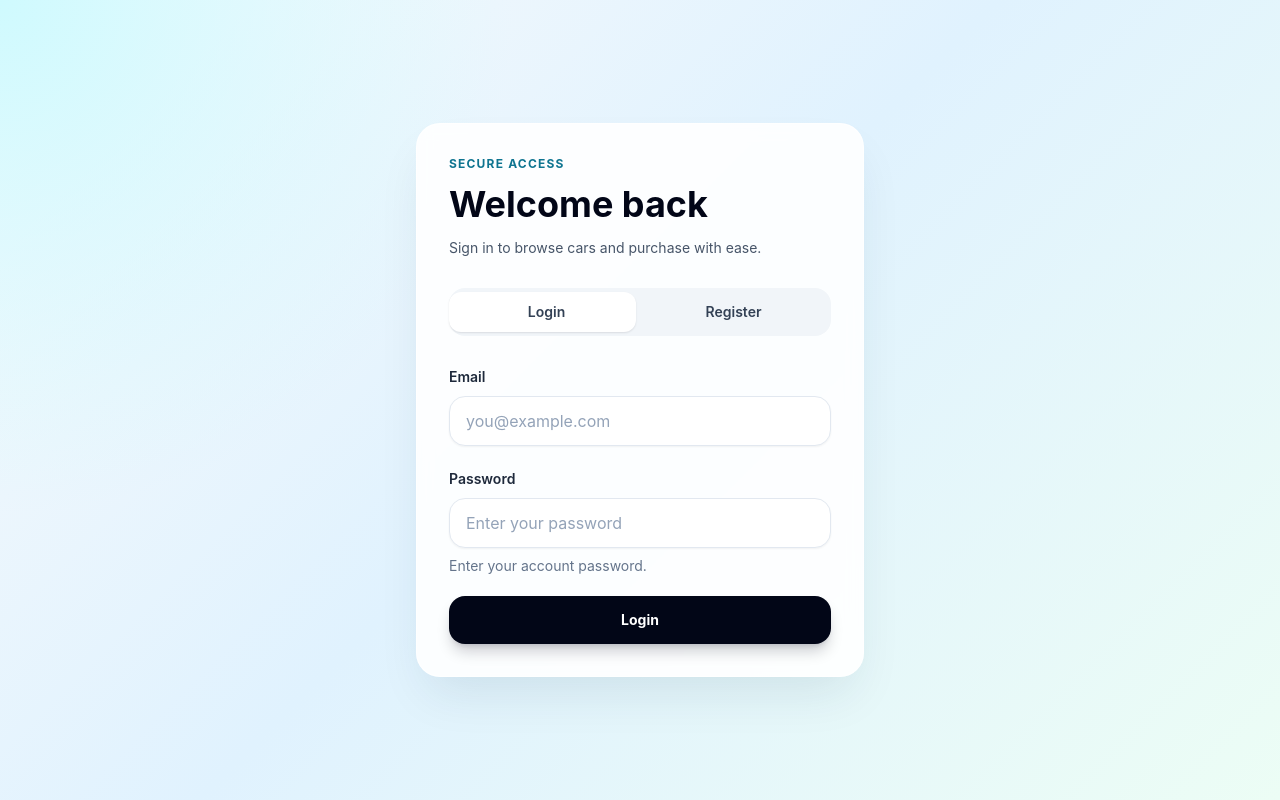
Test: auth page › shows register API errors
Click the tab "Register". click: click(734, 312)
box: [640,292,827,332]
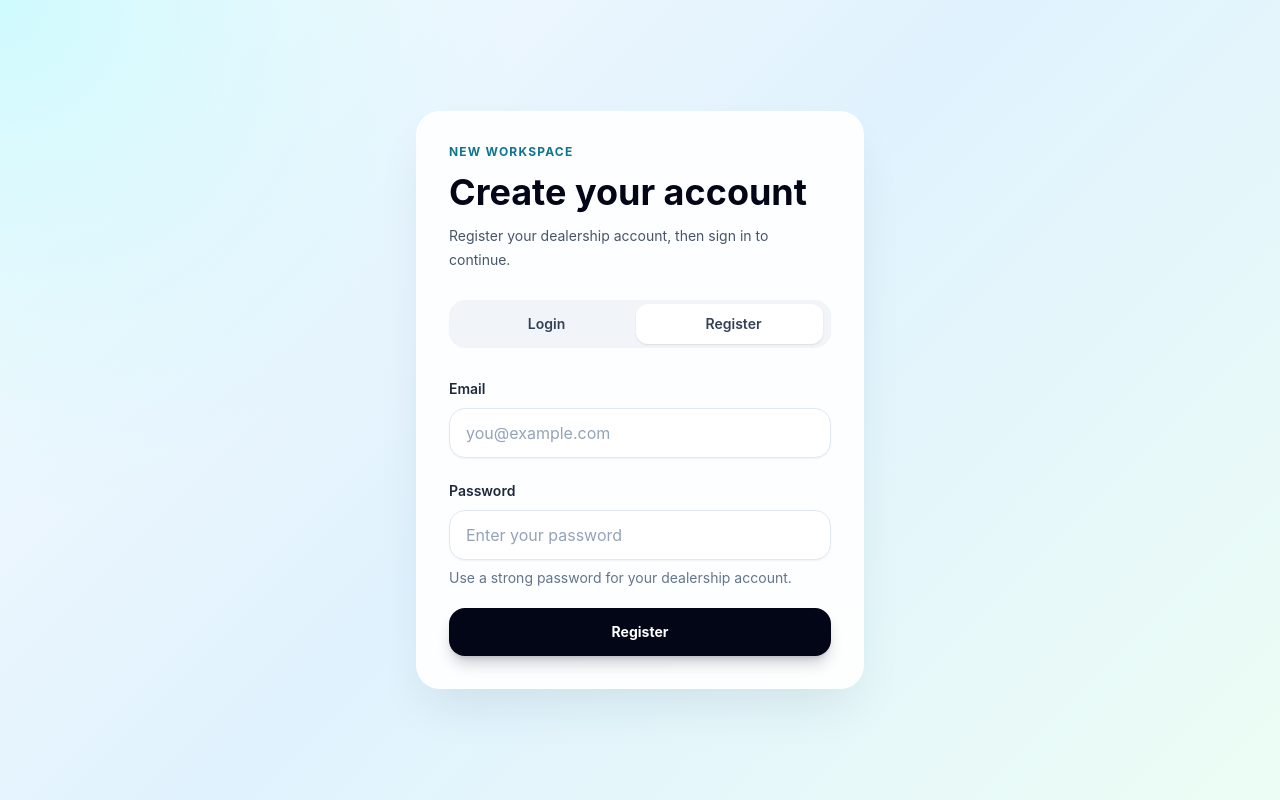
Type "taken@example.com" into the field labelled "Email". click: (640, 433)
box: [449,408,831,458]
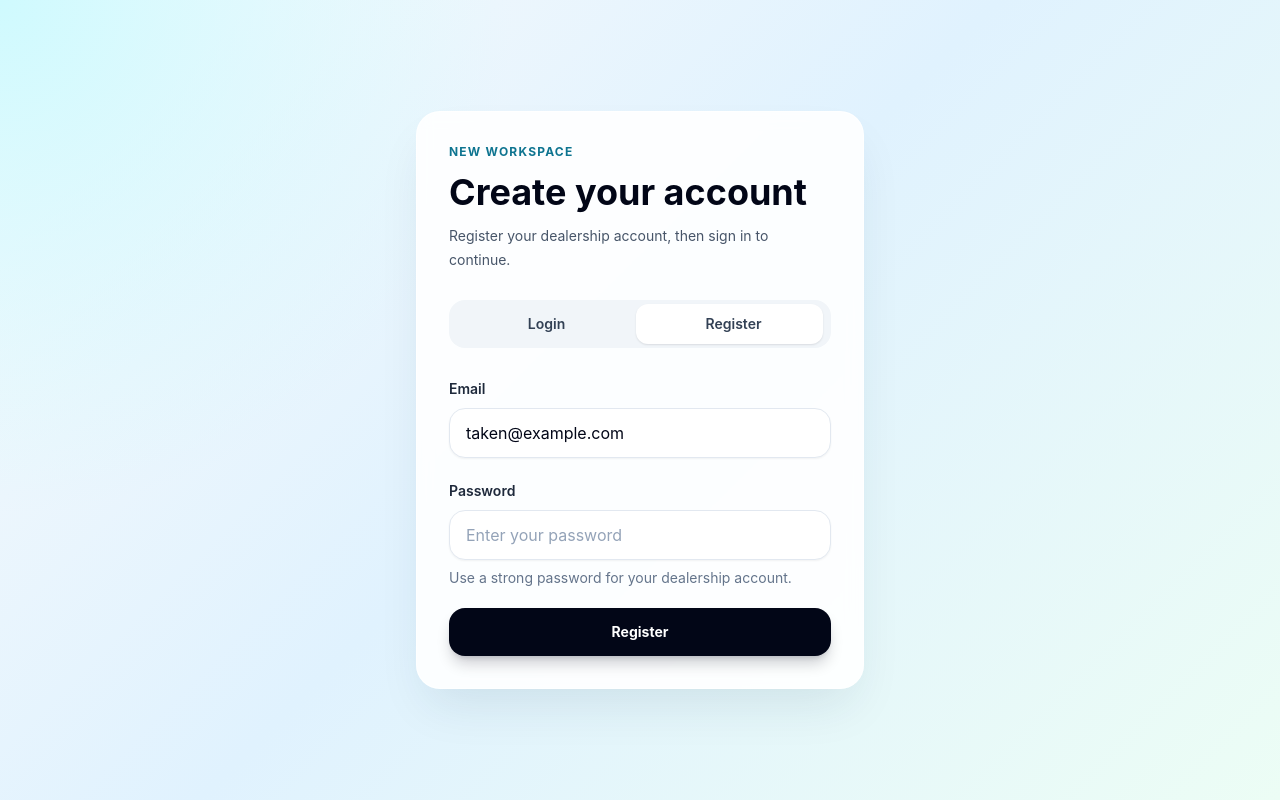
Type "secret-password" into the password field labelled "Password". click: (640, 535)
box: [449,510,831,560]
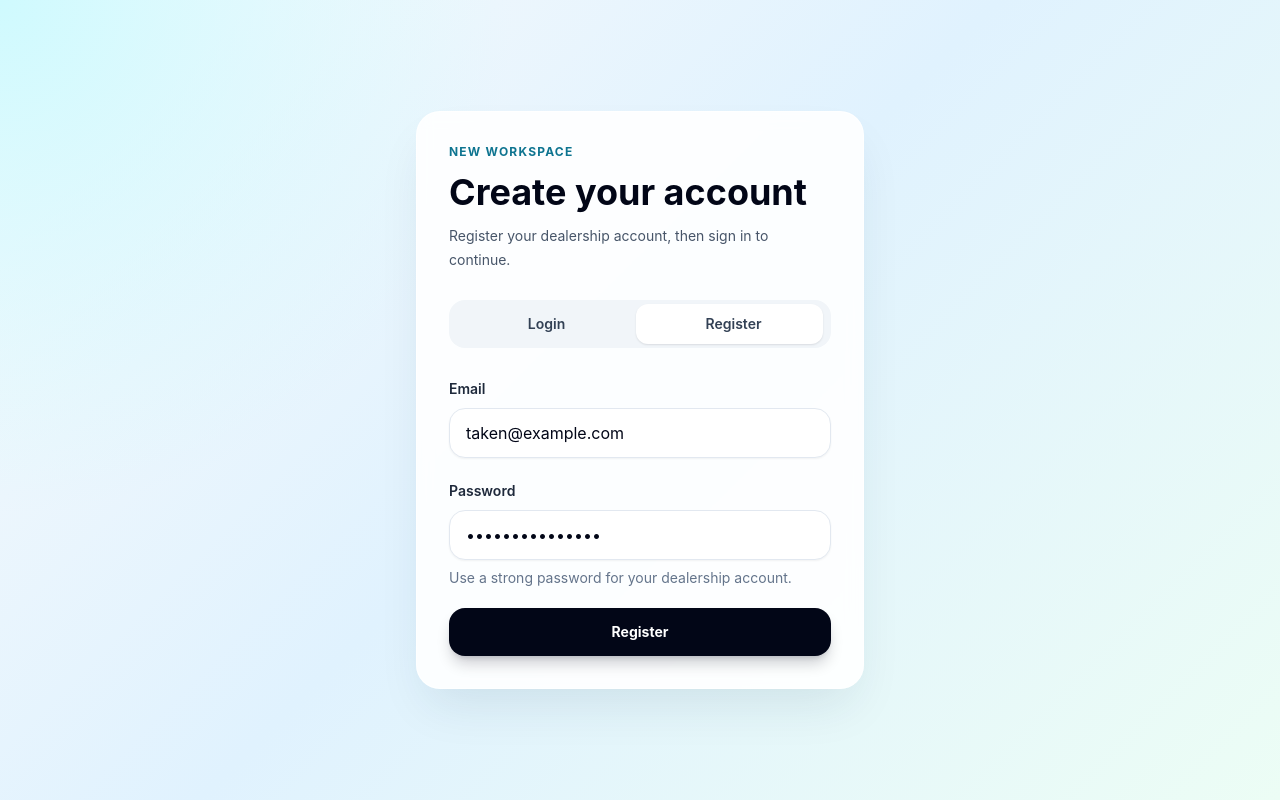
Click the button "Register". click: click(640, 632)
box: [449,608,831,656]
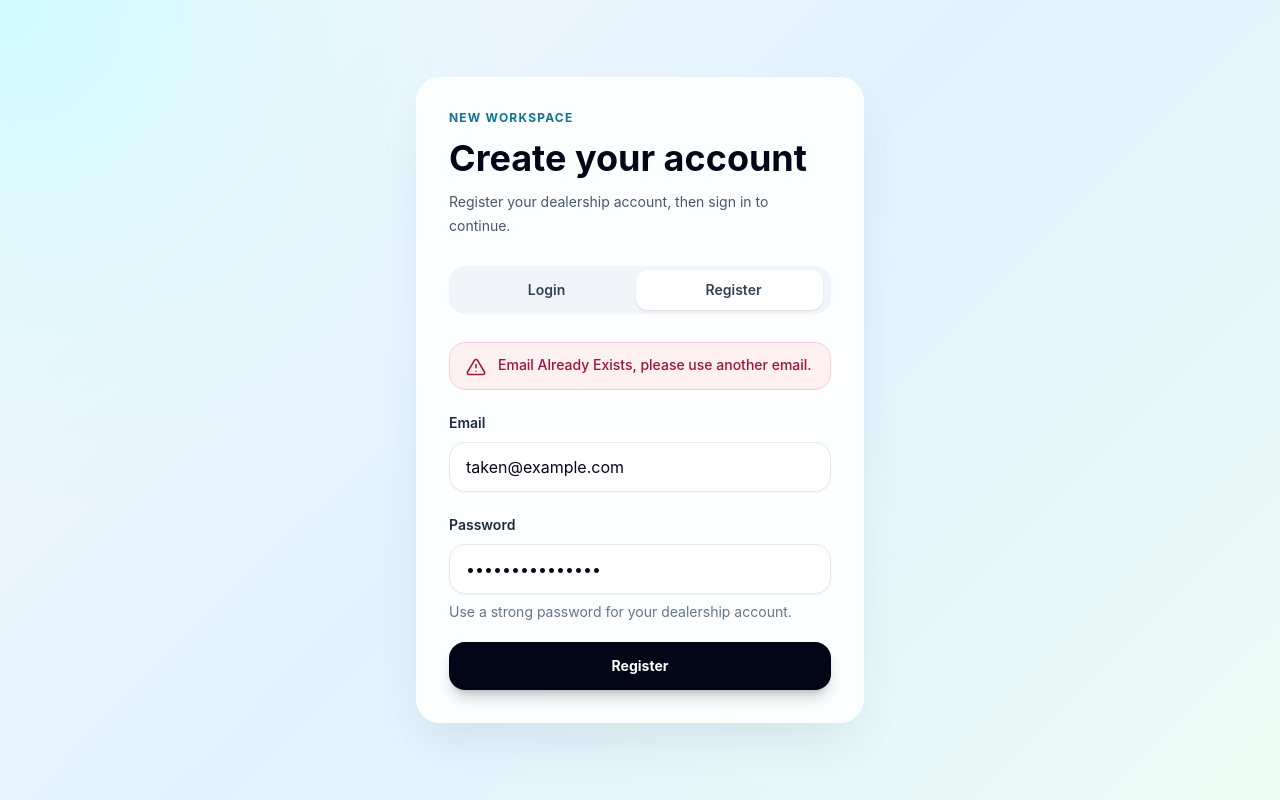
Result: the text "Email Already Exists, please use another email." is shown at [498,355,812,377]
